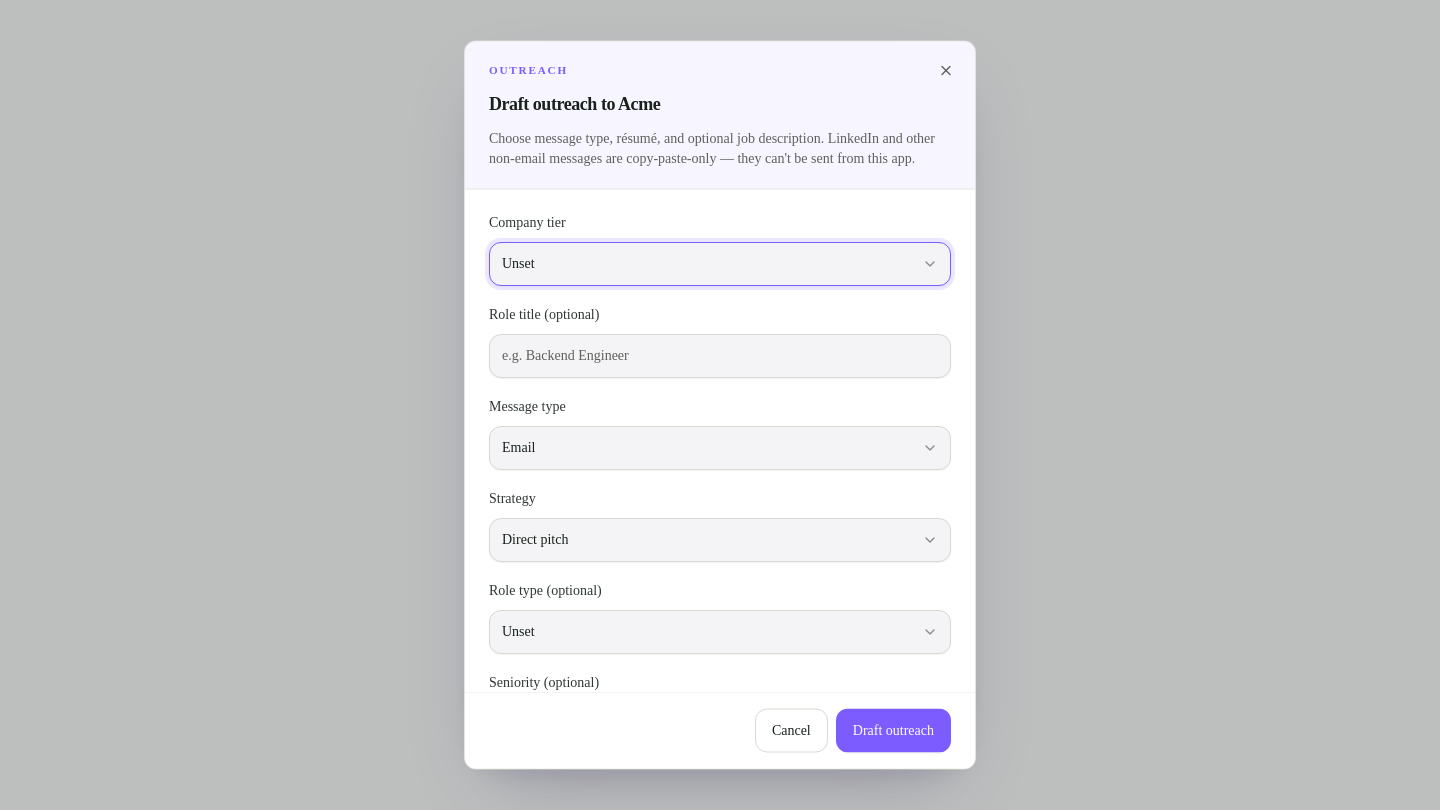
it: DraftOutreachDialog › renders the referral-context textarea only when strategy is "Warm referral"
Expected: the field labelled "Referral context" is not shown
What coordinates should you click on to do the following:
click the dropdown named "Strategy"
I would click on:
 (535, 539)
Its box is [489,517,951,561].
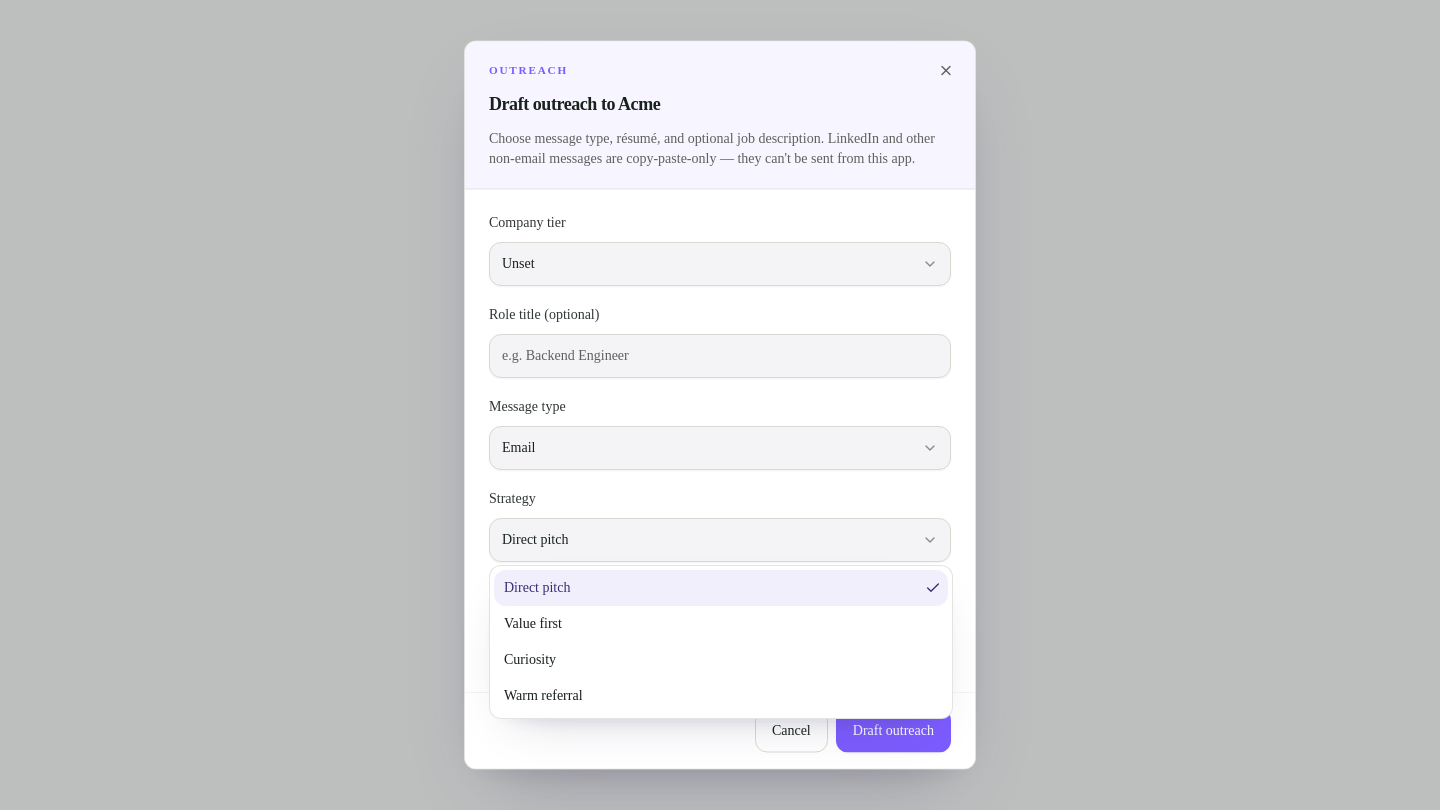
What coordinates should you click on to do the following:
click the option "Warm referral"
I would click on:
 (543, 696)
Its box is [504,688,582,703].
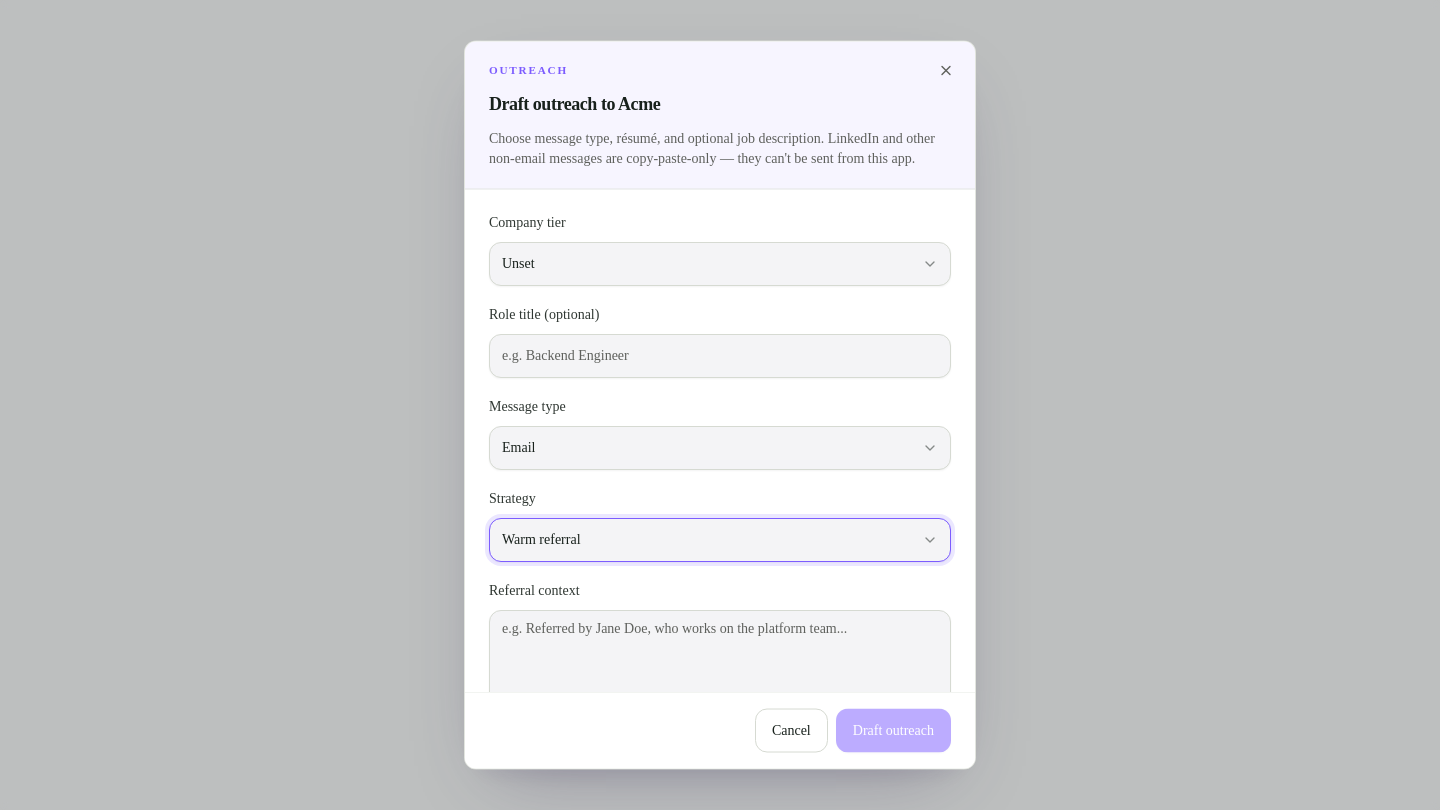
Expected: the text box labelled "Referral context" is shown, [489,609,951,692]
